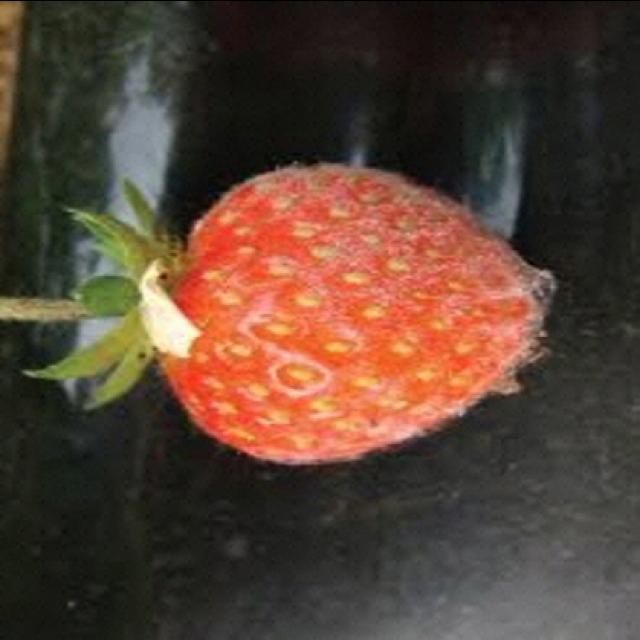Powdery Mildew Fruit: (158, 163, 548, 467)
